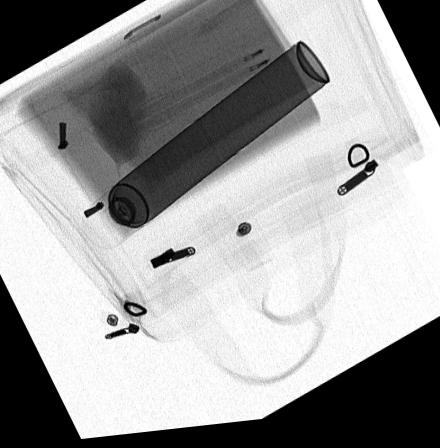Sprayer: (80, 46, 328, 251)
